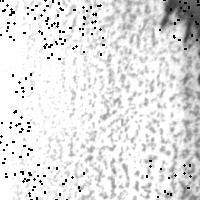pitted_surface: (4, 9, 195, 191), (43, 0, 102, 58), (0, 0, 57, 44), (146, 159, 200, 200), (27, 164, 83, 200), (158, 0, 200, 48), (159, 1, 200, 48), (0, 121, 30, 180), (0, 73, 31, 128)
